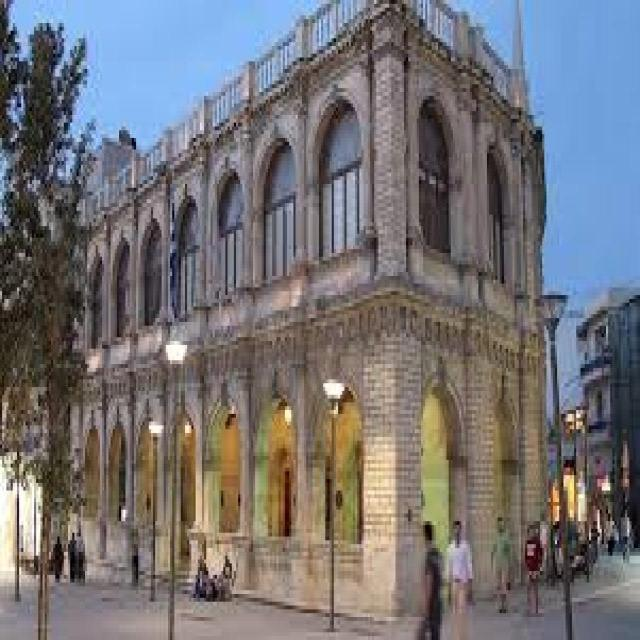Loggia: (62, 1, 550, 602)
